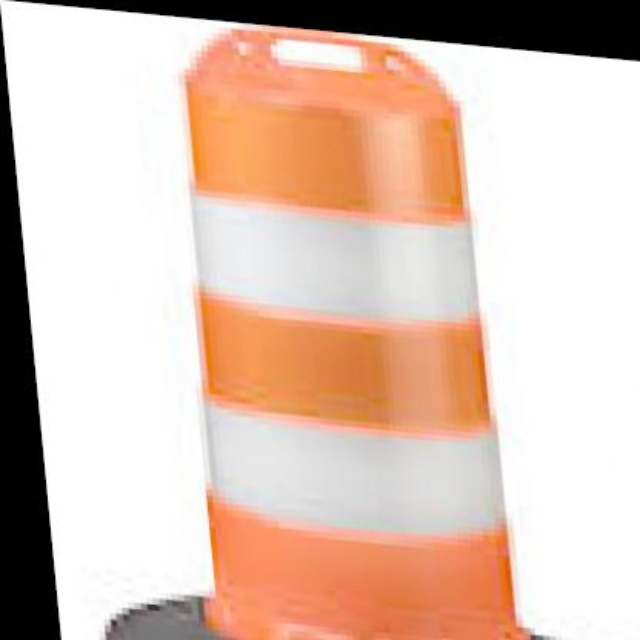obstacle: (109, 21, 546, 640)
